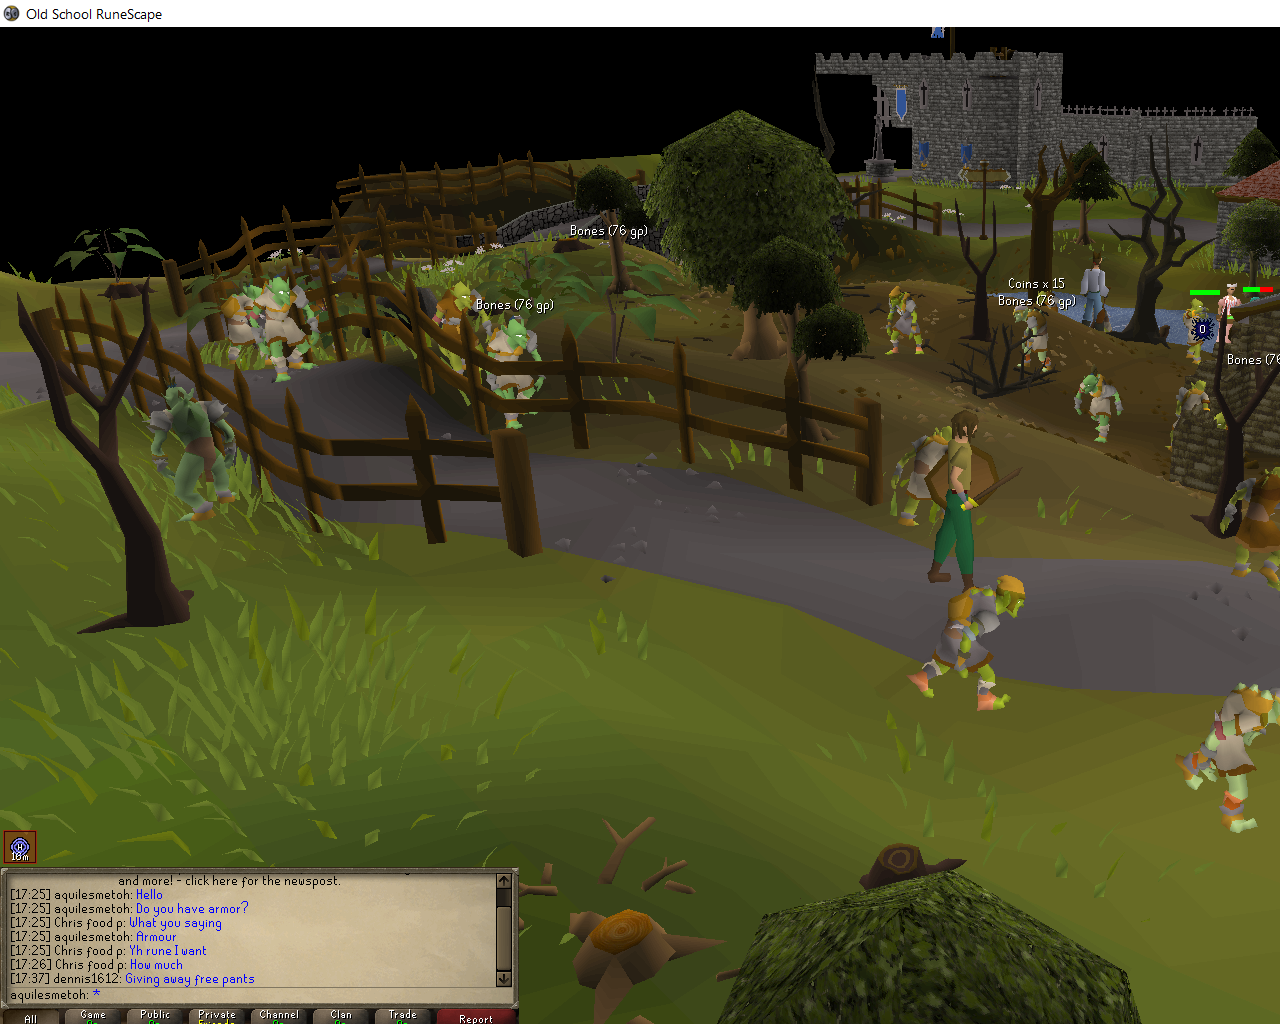Goblin: (902, 571, 1030, 709), (1174, 679, 1280, 837), (146, 381, 254, 525), (1212, 463, 1280, 591), (250, 275, 327, 383), (415, 278, 493, 385), (484, 318, 555, 434), (892, 417, 963, 529), (224, 283, 277, 366), (1071, 371, 1128, 444), (1164, 378, 1215, 452), (1008, 304, 1061, 374), (883, 286, 927, 358), (1180, 296, 1212, 368), (1032, 284, 1064, 317), (1211, 408, 1232, 440)
